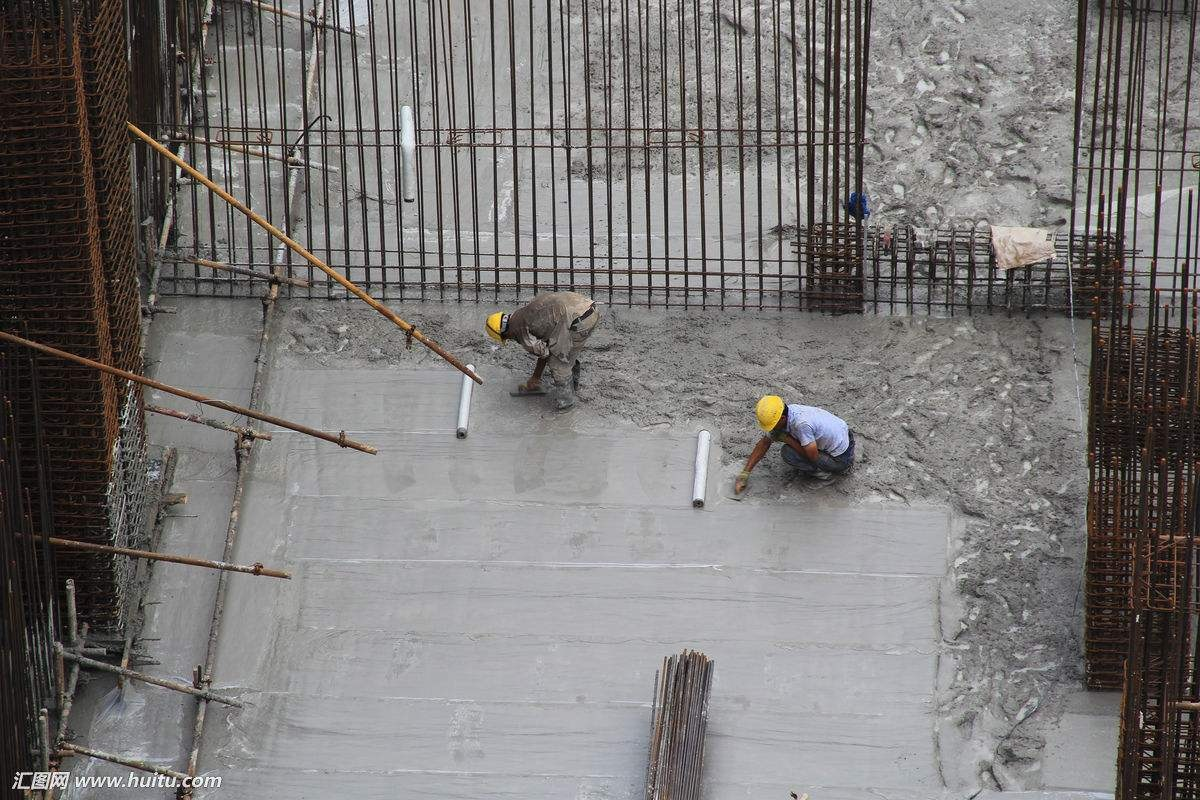yellow: (749, 388, 792, 439), (481, 302, 514, 349)
